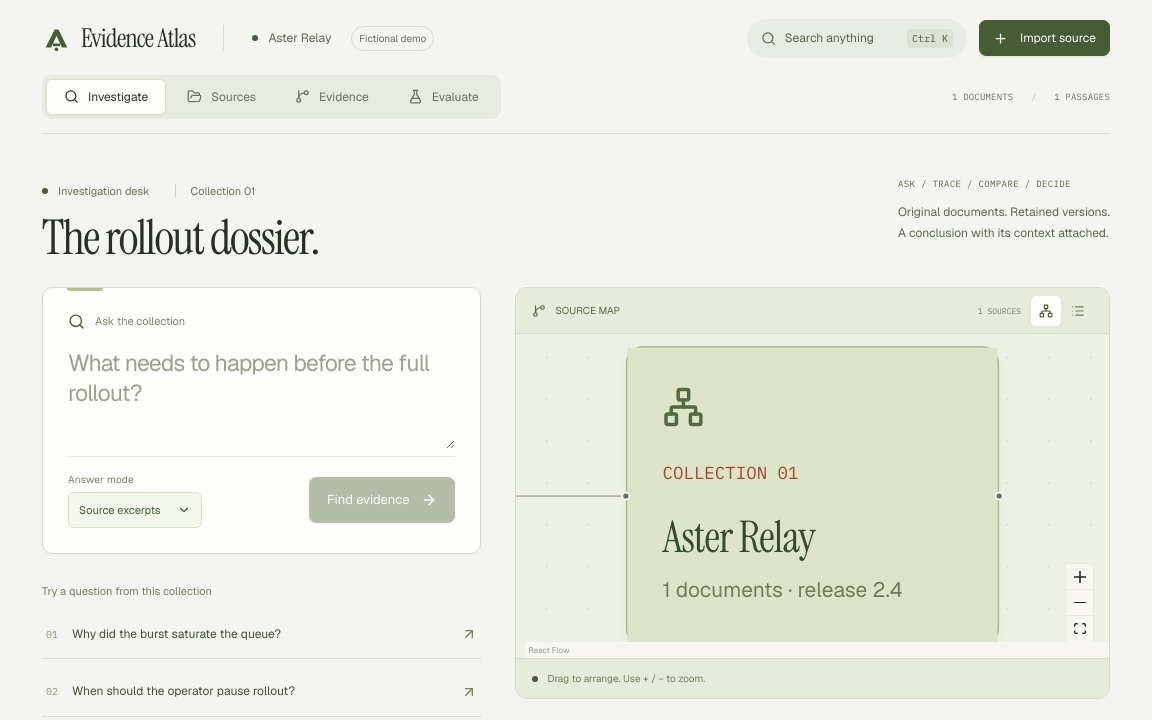
Test: finds a document through keyboard search and returns focus when closed
Expected: the button named "List view" is shown, [1063,296,1093,326]
Type keys "{Control>}k{/Control}"
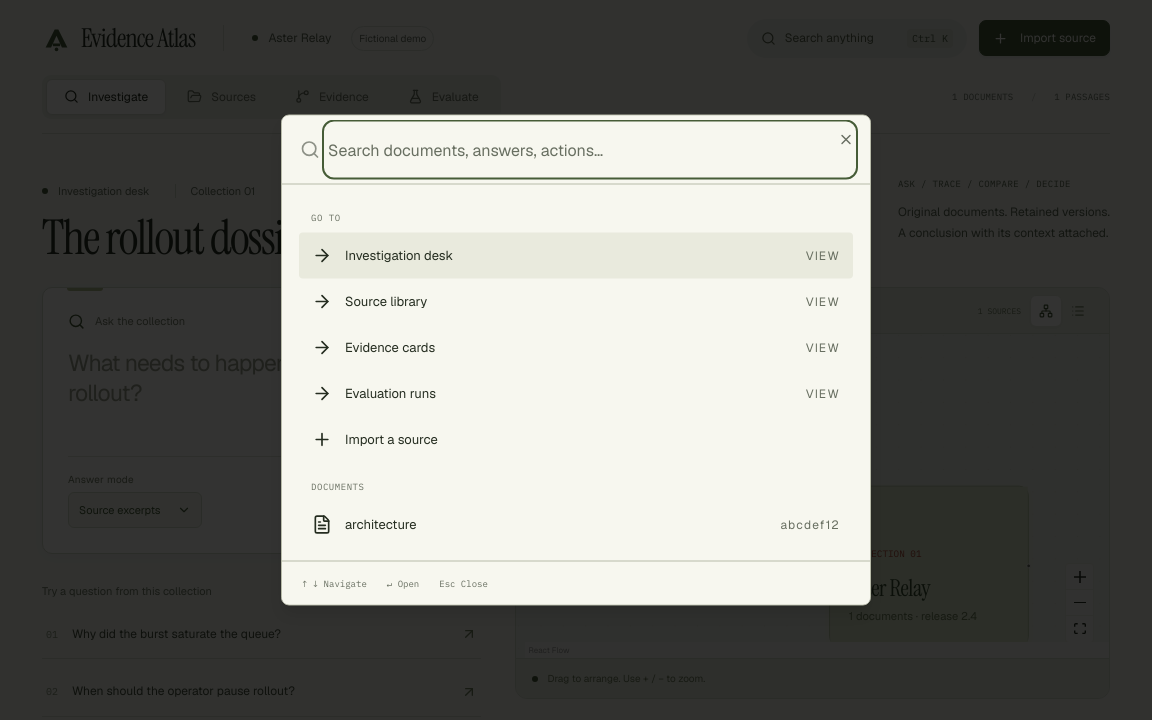
Type "architecture" into the dropdown with placeholder "Search documents, answers, actions…" at (590, 150), box [328,126,852,174]
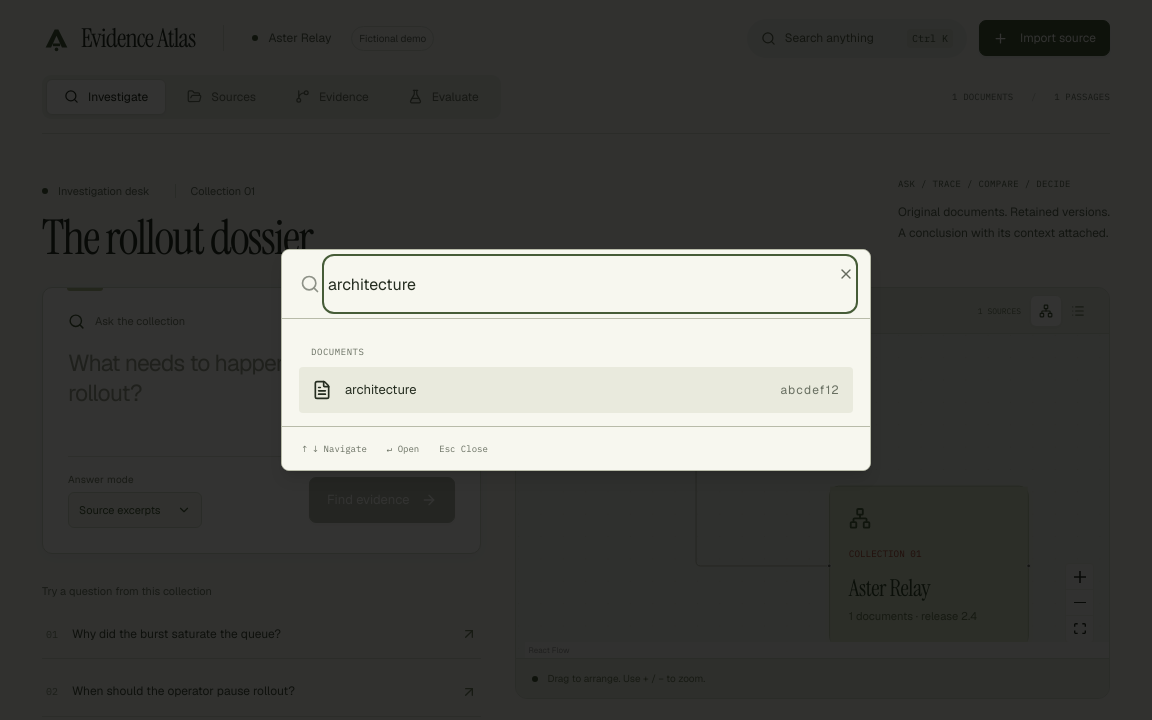
Press Enter
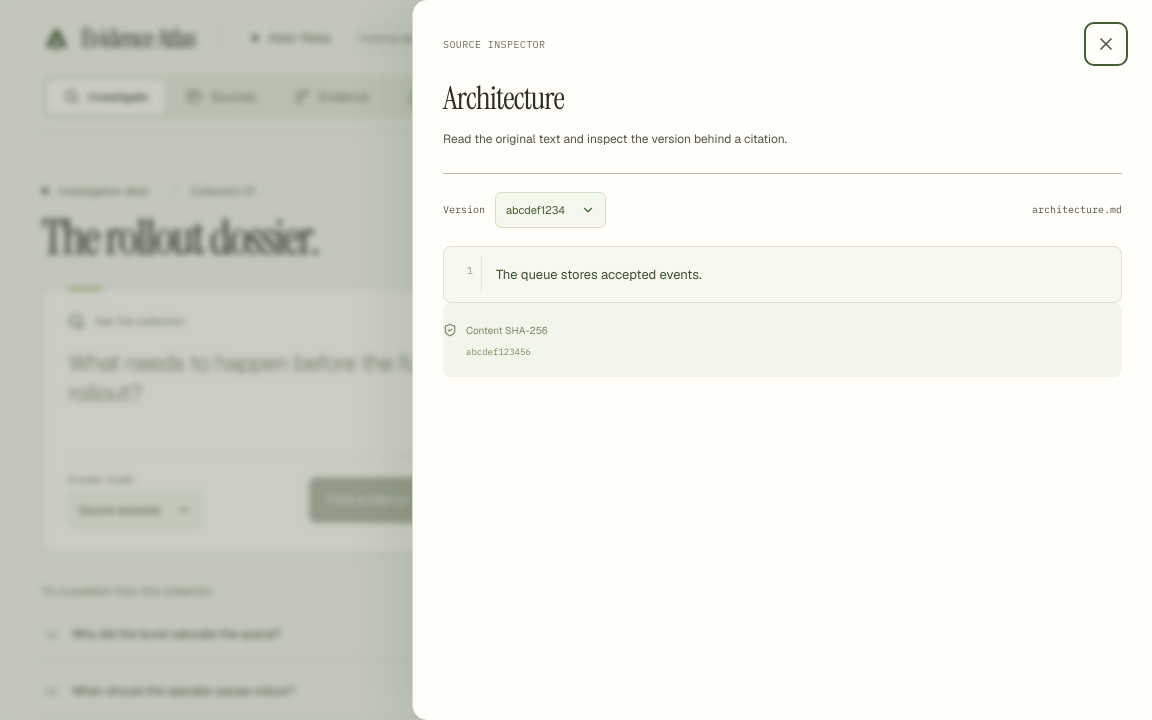
Expected: the dialog shows "The queue stores accepted events.", [496,266,702,283]
Click the button named "Close source inspector" at (1106, 44), box [1090,28,1122,60]
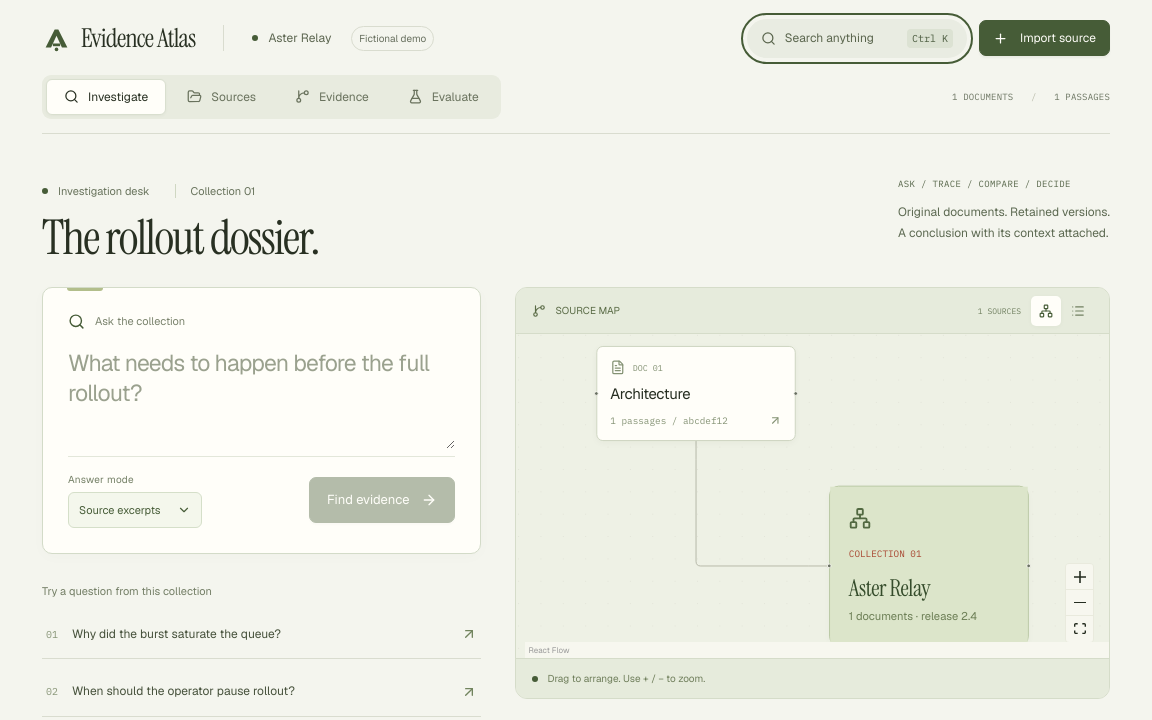
Expected: the dialog is gone
